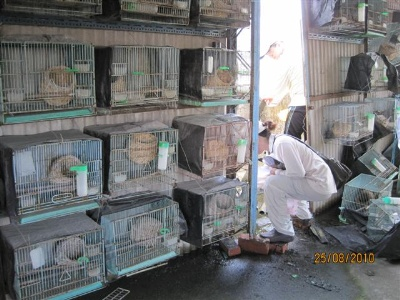bottle: (76, 164, 88, 197), (157, 141, 168, 171), (237, 140, 247, 163), (371, 158, 385, 173), (381, 195, 400, 204), (366, 113, 375, 130)
